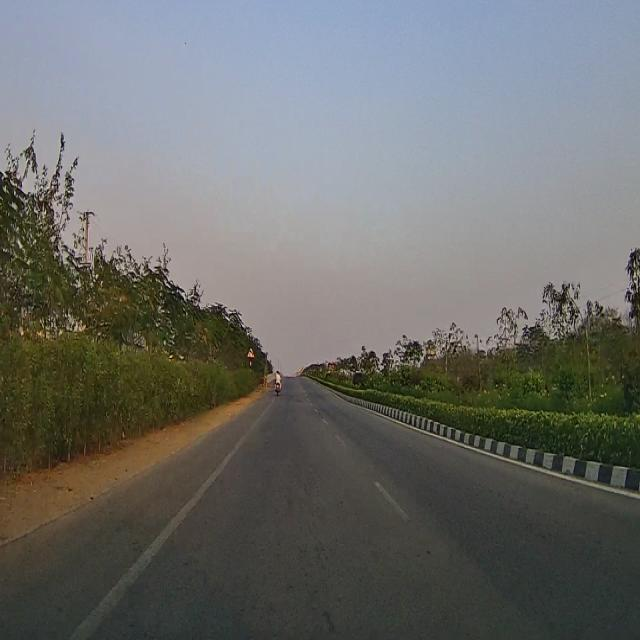left-hand-curve: (247, 346, 255, 359)
